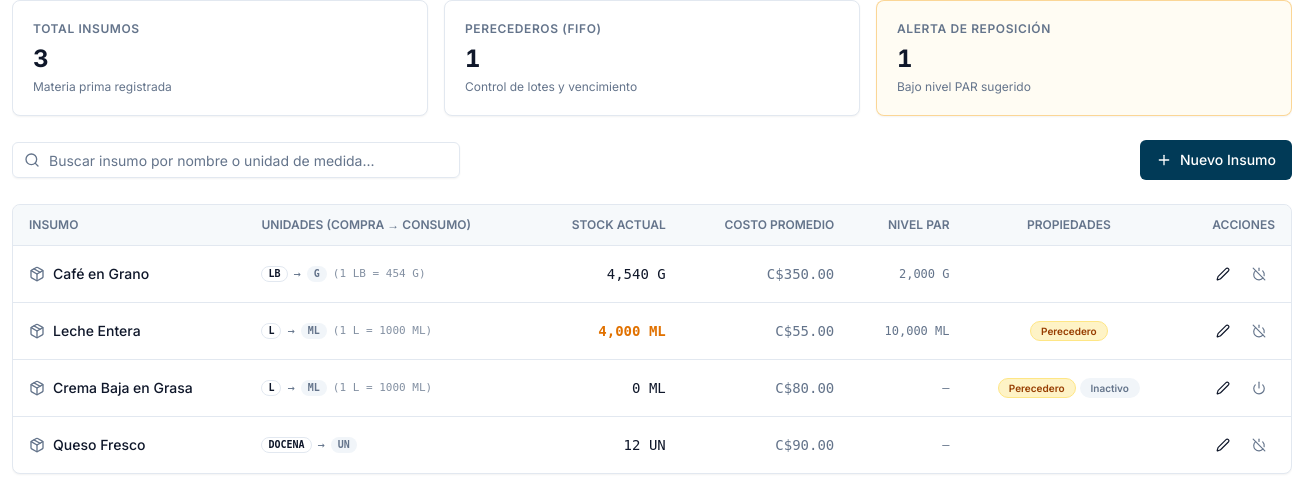
Test: InsumosTab › filters rows by search term
The width and height of the screenshot is (1304, 491).
Expected: the text "Café en Grano" is shown, [53,264,149,284]
In the field with test id "insumos-search-input": (236, 160) [12,142,460,178], type "leche"
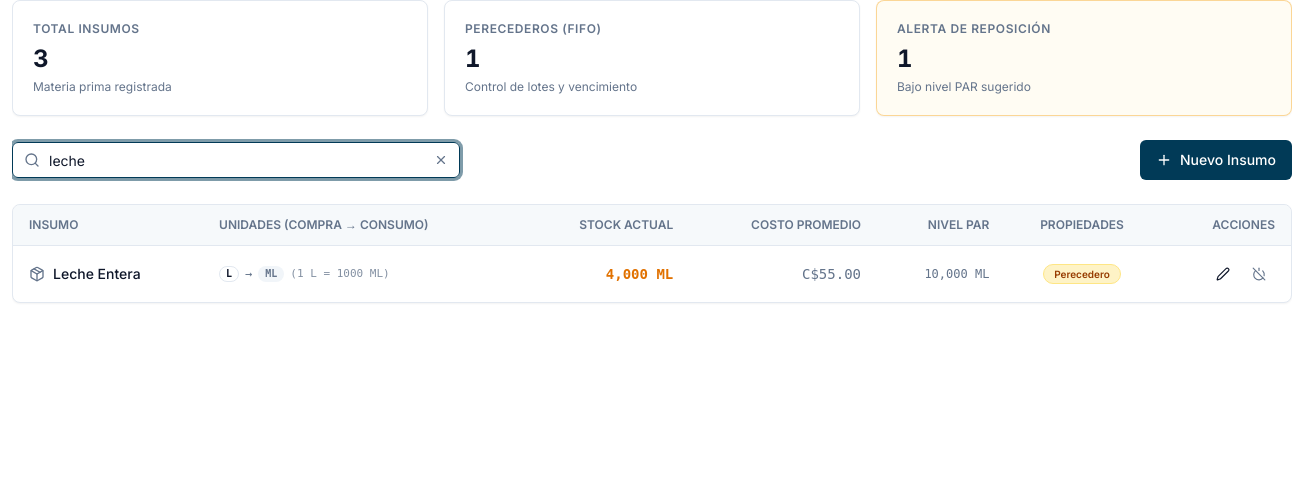
Expected: the text "Leche Entera" is shown, [53,264,141,284]
Expected: the text "Café en Grano" is gone
